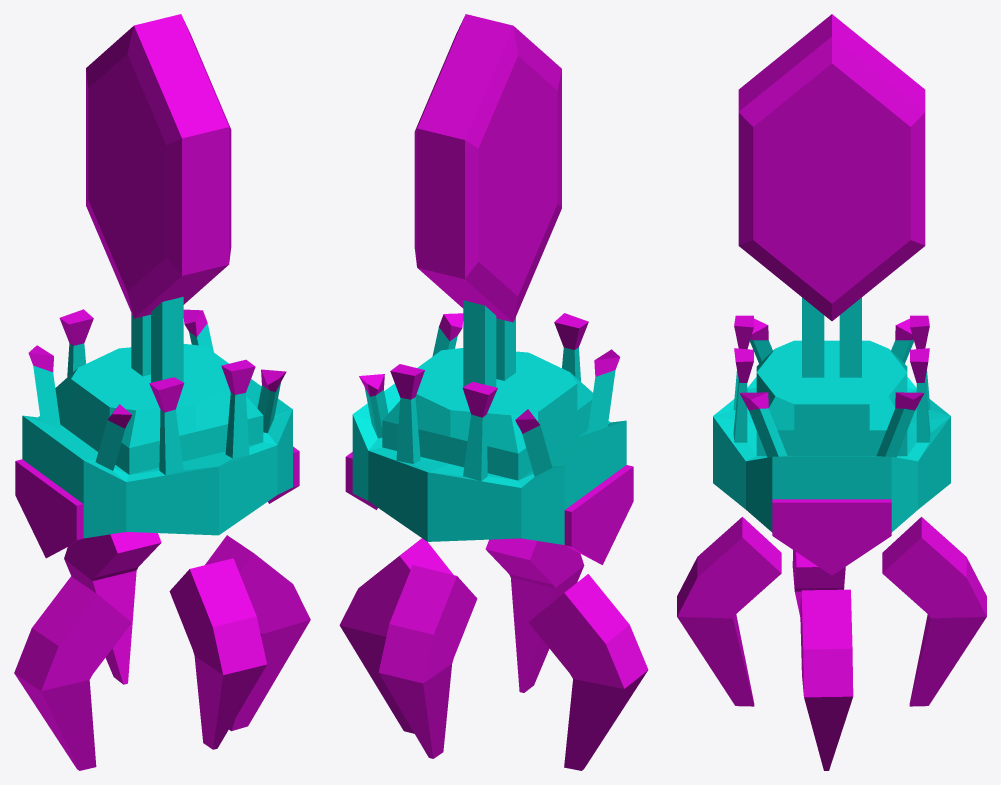
The model's file is Virus.fbx.
3 views of the same model, side by side, from view 1: azimuth 30°, elevation 25°; view 2: azimuth 150°, elevation 25°; view 3: azimuth 270°, elevation 25° (orthographic). The views are drawn at different scales.
Parts seen in each view (by area): view 1: Virus, Gema, patas; view 2: Virus, Gema, patas; view 3: Virus, Gema, patas.
Part boxes in pixels (left/top/right/bottom): Virus: left=15, top=297, right=299, bottom=558; Gema: left=86, top=14, right=231, bottom=318; patas: left=14, top=532, right=310, bottom=770; Virus: left=345, top=300, right=633, bottom=564; Gema: left=414, top=14, right=561, bottom=322; patas: left=339, top=538, right=648, bottom=770; Virus: left=713, top=297, right=950, bottom=575; Gema: left=738, top=14, right=925, bottom=320; patas: left=677, top=517, right=986, bottom=770.
Bounding box in the file's own units: 656 × 659 × 1648.
